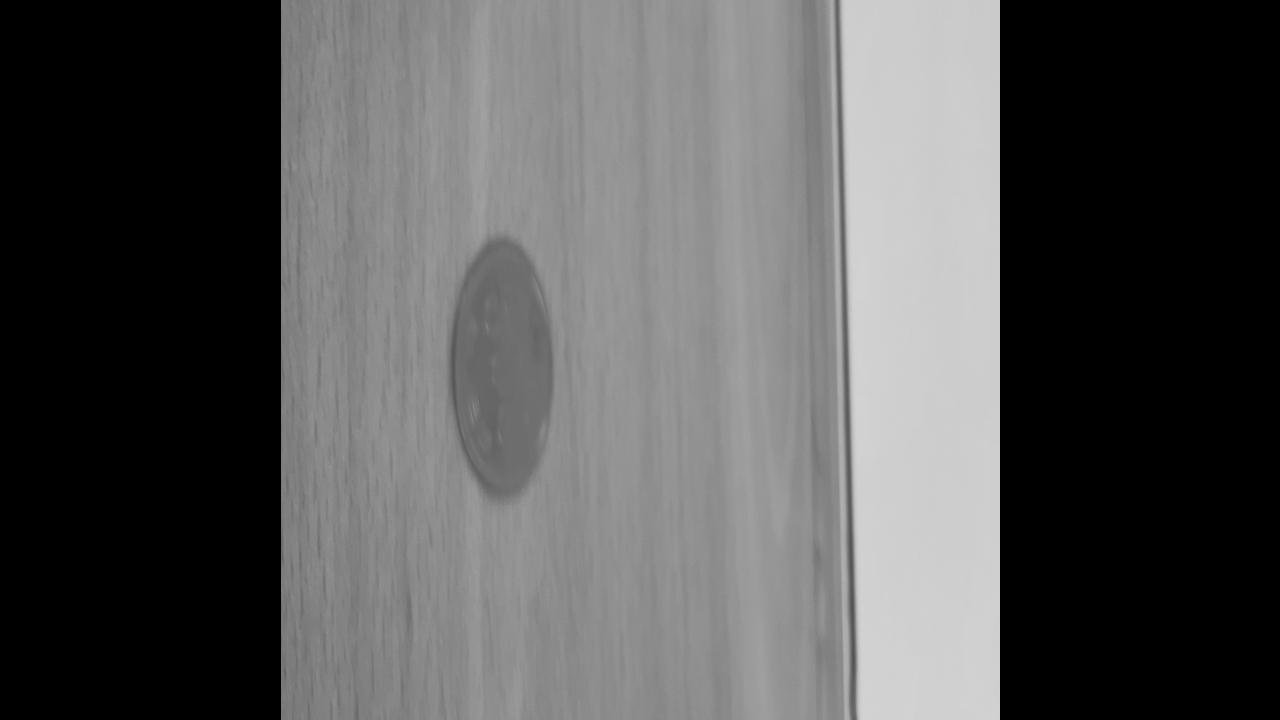coin: (451, 236, 553, 496)
